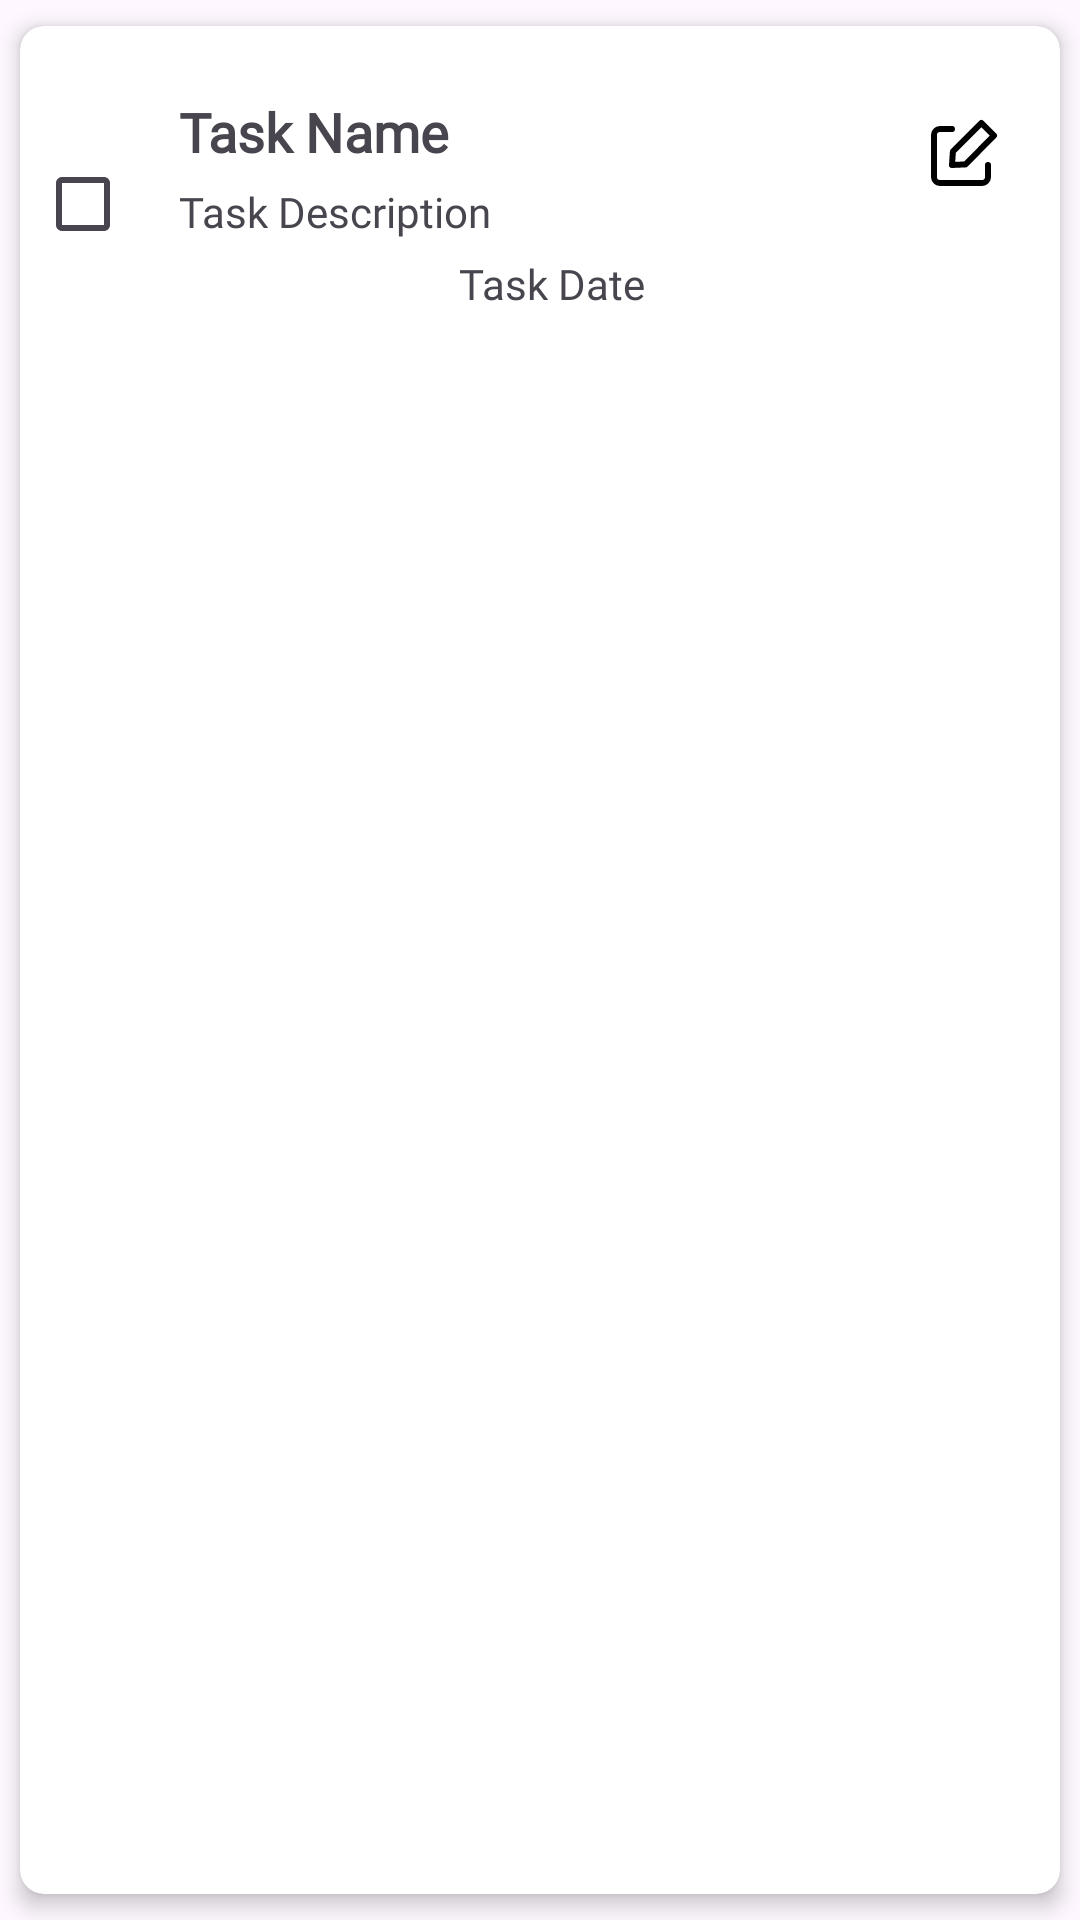

Point at icon controls on the screen. Image size 1080×1920, points as point (x, y).
edit: point (964, 152)
